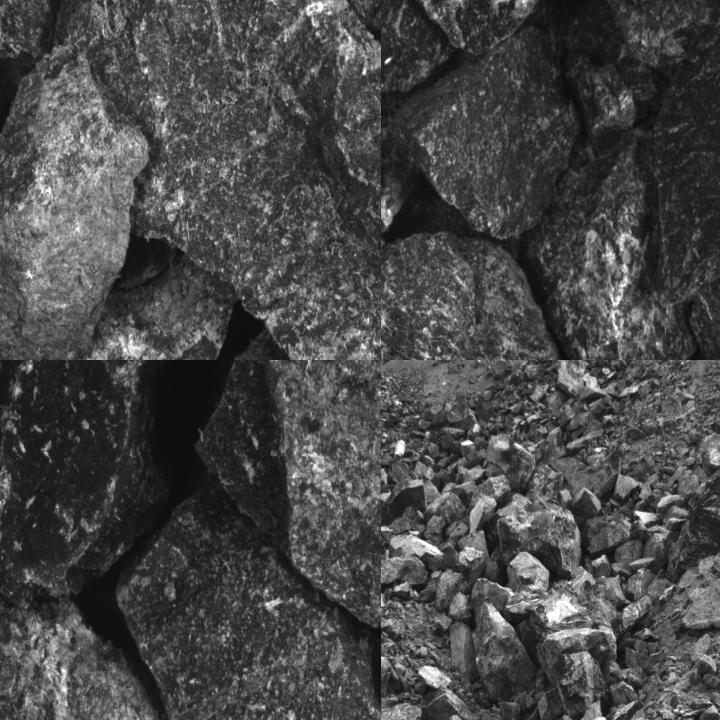stone: (77, 0, 380, 359), (115, 489, 380, 719), (192, 360, 380, 626), (0, 49, 145, 359), (524, 116, 697, 359), (0, 360, 169, 603), (391, 27, 579, 238), (0, 560, 204, 719), (11, 246, 232, 359), (381, 232, 564, 359), (651, 0, 719, 308), (393, 0, 603, 57), (593, 0, 719, 74), (381, 0, 458, 102), (472, 602, 536, 704), (119, 334, 380, 359), (498, 500, 581, 578), (566, 50, 636, 137), (671, 465, 719, 581), (381, 98, 419, 232), (0, 0, 59, 63), (689, 238, 719, 359), (559, 652, 610, 719), (551, 449, 619, 498), (483, 433, 535, 494), (582, 514, 634, 559), (381, 478, 428, 526), (420, 686, 477, 719), (507, 551, 549, 591), (381, 555, 428, 589), (425, 490, 465, 524), (468, 494, 498, 532), (570, 489, 604, 520), (698, 433, 719, 471), (614, 474, 640, 502), (381, 521, 395, 560)
